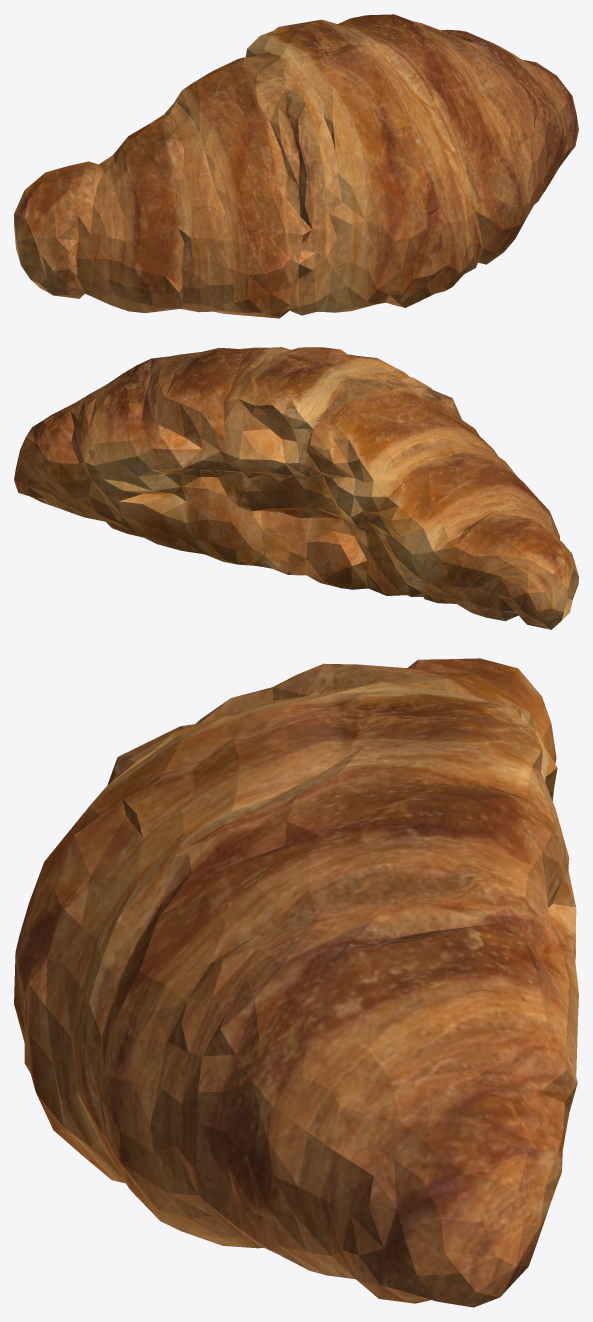
File: croissant.glb
The picture shows the model from 3 angles, top to bottom: view 1: azimuth 30°, elevation 25°; view 2: azimuth 150°, elevation 25°; view 3: azimuth 270°, elevation 25°; orthographic projection. The views are drawn at different scales.
Parts seen in each view (by area): view 1: Croissant_croissant_10M_textured.001; view 2: Croissant_croissant_10M_textured.001; view 3: Croissant_croissant_10M_textured.001.
Part boxes in pixels (x1,y1,x2,y2): Croissant_croissant_10M_textured.001: (14,14,578,318); Croissant_croissant_10M_textured.001: (14,347,578,629); Croissant_croissant_10M_textured.001: (14,658,578,1307).
Size of the model in its own units: 0.138 by 0.05 by 0.062.
1 material, 1 textured.
